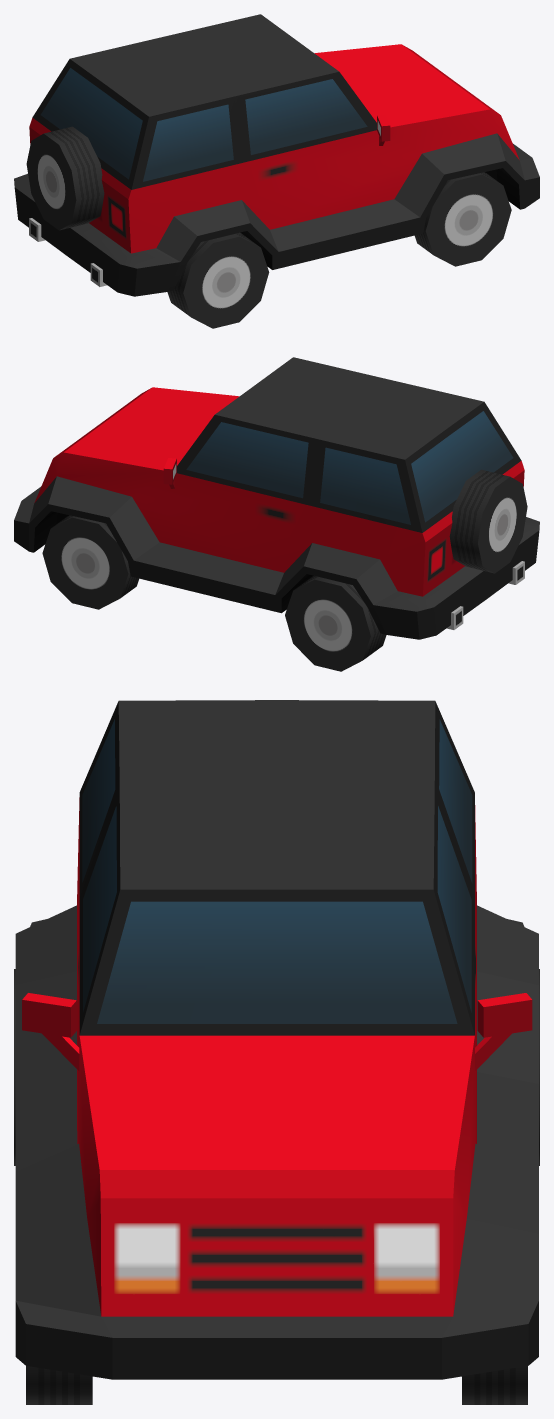
Rendered from Car_257.glb.
3 views of the same model, one above another, from view 1: azimuth 30°, elevation 25°; view 2: azimuth 150°, elevation 25°; view 3: azimuth 270°, elevation 25° (orthographic). The views are drawn at different scales.
Visible parts, largest first — view 1: Car_257, wheel_3_Car_257_Wheel_2R, wheel_1_Car_257_Wheel_1R; view 2: Car_257, wheel_2_Car_257_Wheel_2L, wheel_0_Car_257_Wheel_1L; view 3: Car_257, wheel_1_Car_257_Wheel_1R, wheel_0_Car_257_Wheel_1L.
Part boxes in pixels (bbox=[...]): Car_257: bbox=[14, 14, 539, 296]; wheel_3_Car_257_Wheel_2R: bbox=[167, 232, 269, 328]; wheel_1_Car_257_Wheel_1R: bbox=[414, 172, 511, 266]; Car_257: bbox=[14, 357, 539, 639]; wheel_2_Car_257_Wheel_2L: bbox=[285, 575, 386, 671]; wheel_0_Car_257_Wheel_1L: bbox=[42, 515, 138, 609]; Car_257: bbox=[15, 700, 538, 1379]; wheel_1_Car_257_Wheel_1R: bbox=[26, 1366, 92, 1404]; wheel_0_Car_257_Wheel_1L: bbox=[462, 1366, 527, 1404].
Bounding box in the file's own units: 3.79 × 1.67 × 1.97.
1 material, 1 textured.
